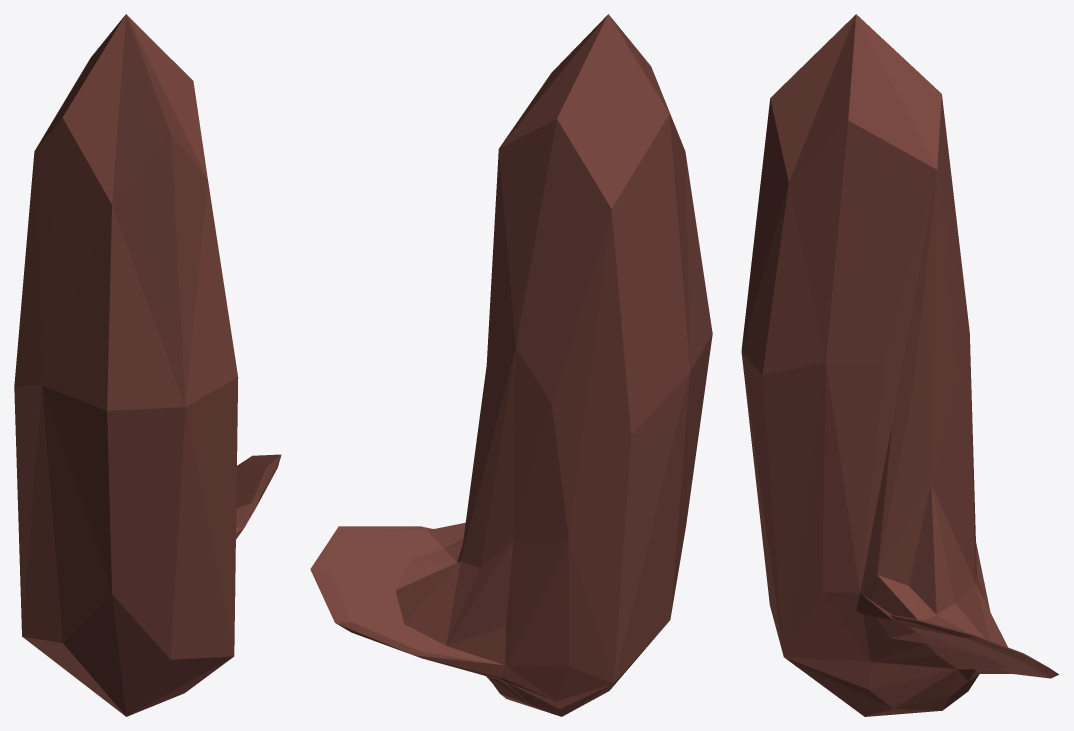
3 renders of one model, left to right at view 1: azimuth 30°, elevation 25°; view 2: azimuth 150°, elevation 25°; view 3: azimuth 270°, elevation 25°, orthographic. The views are drawn at different scales.
Parts seen in each view (by area): view 1: 269_Cube.1101; view 2: 269_Cube.1101; view 3: 269_Cube.1101.
Part boxes in pixels (bbox=[...]): 269_Cube.1101: bbox=[14, 14, 281, 716]; 269_Cube.1101: bbox=[310, 14, 712, 716]; 269_Cube.1101: bbox=[741, 14, 1058, 716].
Bounding box in the file's own units: 5.41 × 12.01 × 5.11.
